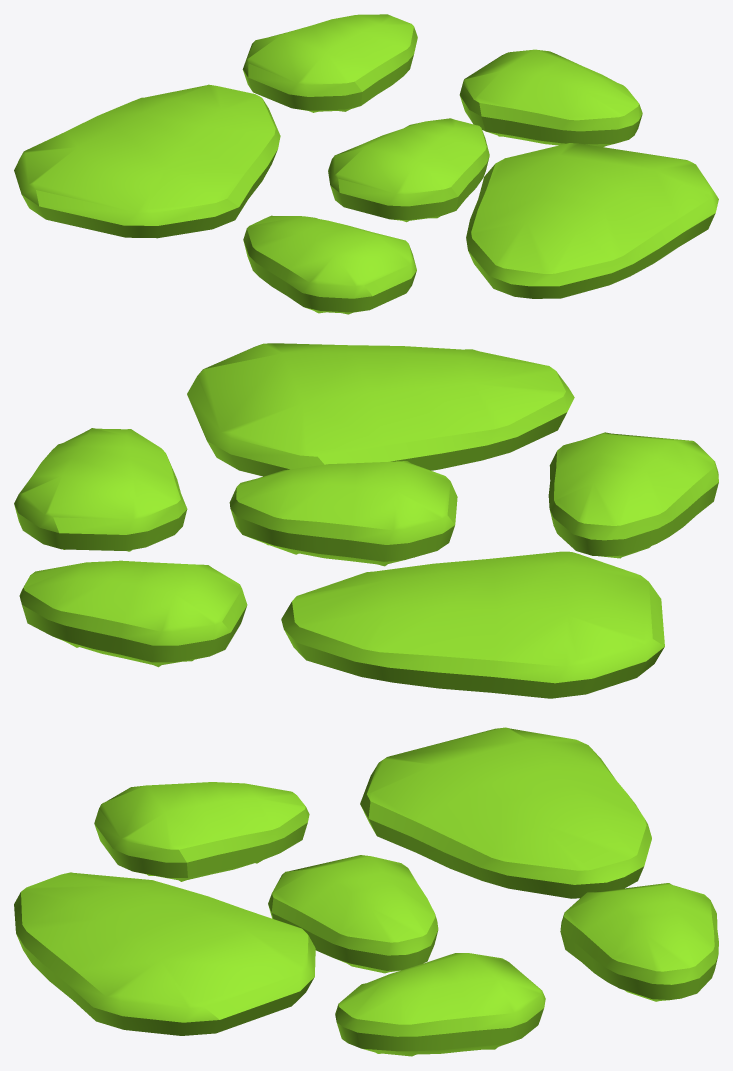
The model's file is Green2_seed.fbx.
3 views of the same model, one above another, from view 1: azimuth 30°, elevation 25°; view 2: azimuth 150°, elevation 25°; view 3: azimuth 270°, elevation 25° (orthographic). The views are drawn at different scales.
Parts seen in each view (by area): view 1: seed1.064, seed1.063, seed1.055, seed1.061, seed1.065, seed1.066; view 2: seed1.064, seed1.063, seed1.066, seed1.061, seed1.065, seed1.055; view 3: seed1.063, seed1.064, seed1.065, seed1.055, seed1.061, seed1.066.
Boxes of the visible parts, x1,y1,x2,y2 form: seed1.064: [14, 84, 280, 238]; seed1.063: [466, 143, 718, 298]; seed1.055: [459, 49, 642, 147]; seed1.061: [242, 14, 417, 112]; seed1.065: [243, 215, 416, 314]; seed1.066: [328, 118, 489, 222]; seed1.064: [281, 551, 664, 698]; seed1.063: [187, 343, 574, 476]; seed1.066: [229, 461, 457, 566]; seed1.061: [19, 560, 247, 667]; seed1.065: [548, 432, 718, 558]; seed1.055: [14, 428, 187, 551]; seed1.063: [14, 872, 315, 1035]; seed1.064: [360, 727, 651, 898]; seed1.065: [94, 782, 309, 881]; seed1.055: [335, 953, 545, 1056]; seed1.061: [560, 883, 718, 1001]; seed1.066: [268, 855, 438, 973].
Bounding box in the file's own units: 81.73 × 8.72 × 81.7.
